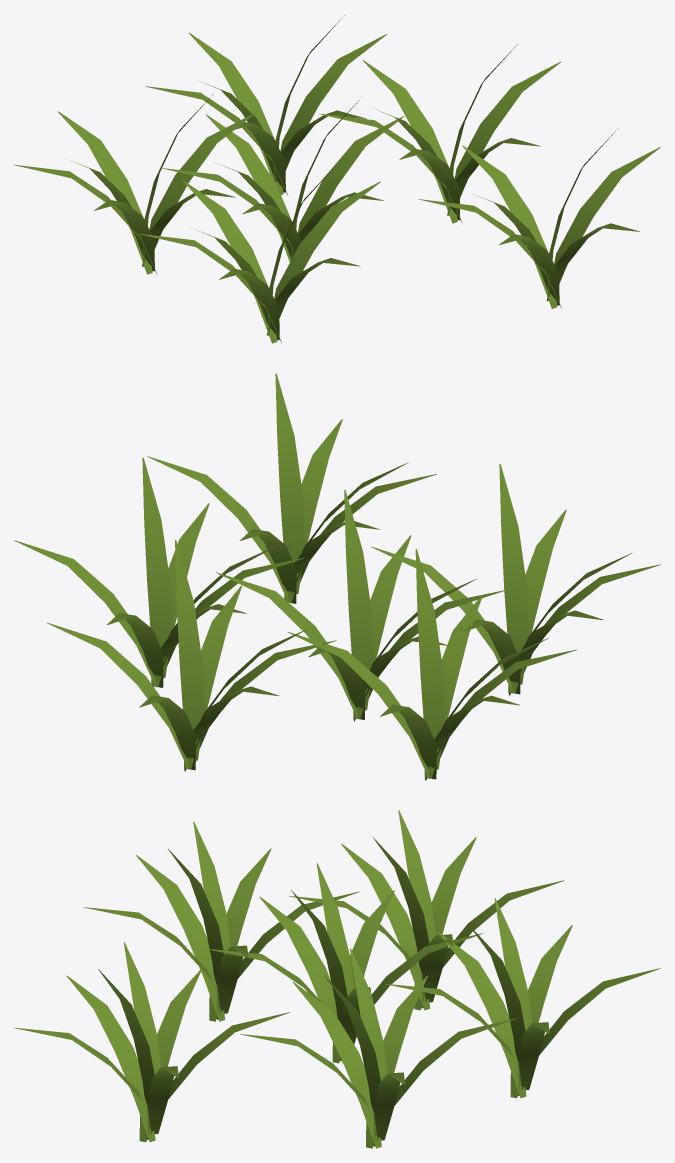
Rendered from U_Grass_A_02.fbx.
3 views of the same model, one above another, from view 1: azimuth 30°, elevation 25°; view 2: azimuth 150°, elevation 25°; view 3: azimuth 270°, elevation 25° (orthographic). The views are drawn at different scales.
Visible parts, largest first — view 1: U_Grass_A_02; view 2: U_Grass_A_02; view 3: U_Grass_A_02.
Part boxes in pixels (x1,y1,x2,y2): U_Grass_A_02: (14,15,660,343); U_Grass_A_02: (14,373,660,780); U_Grass_A_02: (14,810,660,1148).
Size of the model in its own units: 203 by 71.44 by 220.
